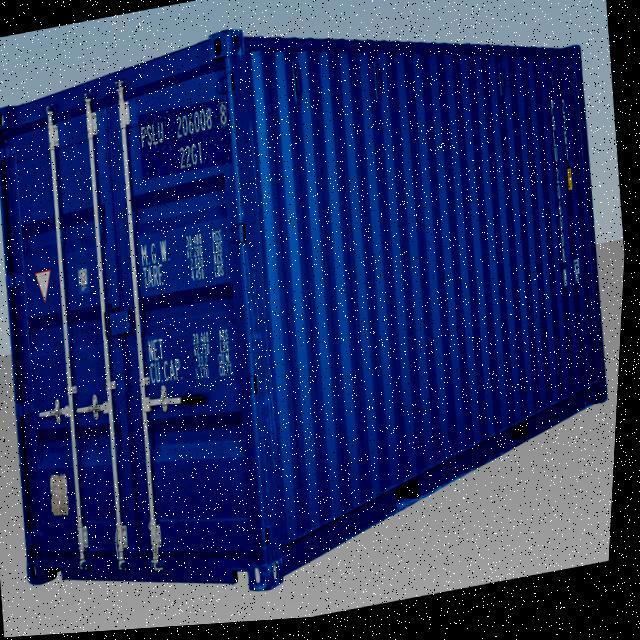container_number_h: (136, 100, 236, 182)
